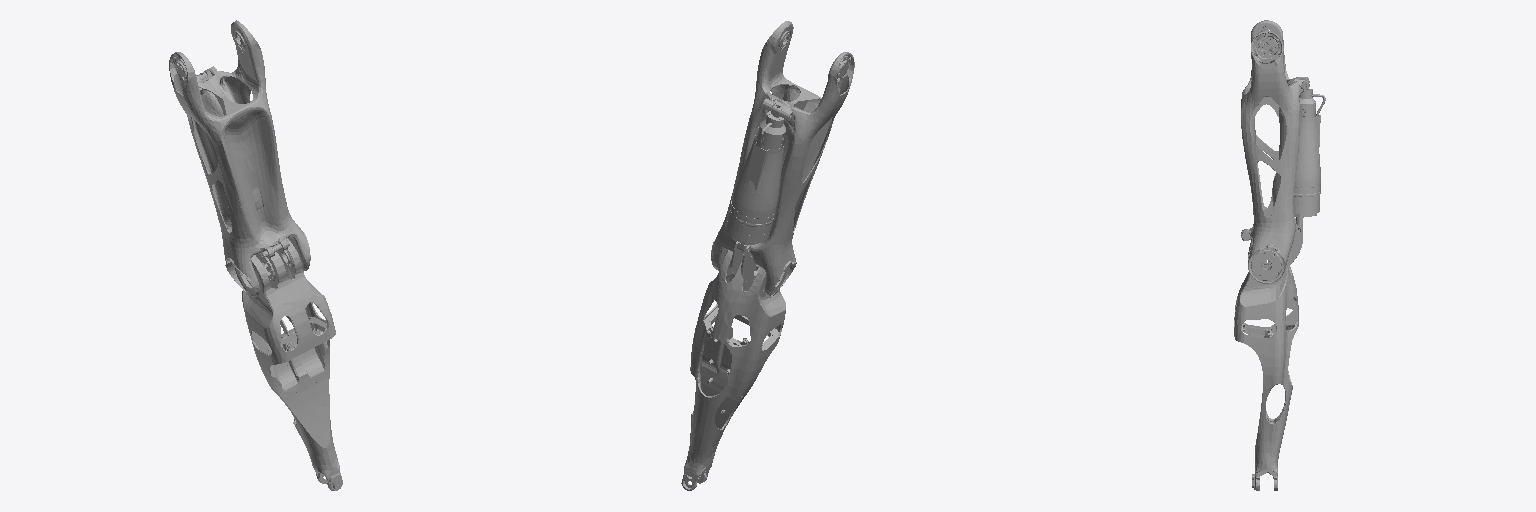
robot.urdf — LRKnee:
<robot name="LRKnee">
  <link name="LRHip3_Link">
    <inertial>
      <origin xyz="0.051263 0.0072511 -0.19232" rpy="0.0 0.0 0.0"/>
      <mass value="1.0487"/>
      <inertia ixx="0.020383" ixy="3.4682e-05" ixz="0.0047264" iyy="0.022629" iyz="-0.00014075" izz="0.0042174"/>
    </inertial>
    <visual name="LRHip3_Link_visual">
      <origin xyz="0.0 0.0 0.0" rpy="0.0 0.0 0.0"/>
      <geometry>
        <mesh filename="../meshes/stl/Hip3_Link.STL"/>
      </geometry>
      <material name="">
        <color rgba="0.69804 0.69804 0.69804 1.0"/>
      </material>
    </visual>
    <collision name="LRHip3_Link_collision">
      <origin xyz="0.0 0.0 0.0" rpy="0.0 0.0 0.0"/>
      <geometry>
        <mesh filename="../meshes/stl/Hip3_Link.STL"/>
      </geometry>
    </collision>
  </link>
  <joint name="LRKnee" type="revolute">
    <origin xyz="0.10788 -0.0005 -0.39684" rpy="3.1416 1.309 -2.9949e-15"/>
    <axis xyz="0.0 0.0 1.0"/>
    <parent link="LRHip3_Link"/>
    <child link="LRKnee_Link"/>
    <limit effort="325.0" lower="-0.026" upper="1.43" velocity="2.321"/>
  </joint>
  <joint name="LRKnee_Act1" type="prismatic">
    <origin xyz="0.27341 0.0 0.0" rpy="0.0 7.7037e-32 -6.9389e-18"/>
    <axis xyz="1.0 0.0 0.0"/>
    <parent link="LRKnee_B11_Link"/>
    <child link="LRKnee_Act1_Link"/>
    <limit effort="1825.0" lower="0.0" upper="0.1175" velocity="0.14"/>
  </joint>
  <link name="LRKnee_Act1_Link">
    <inertial>
      <origin xyz="-0.10645 -2.465e-13 1.5266e-16" rpy="0.0 0.0 0.0"/>
      <mass value="0.16503"/>
      <inertia ixx="3.4113e-06" ixy="-3.8263e-12" ixz="-7.1291e-16" iyy="0.00081967" iyz="1.7661e-15" izz="0.00081963"/>
    </inertial>
    <visual name="LRKnee_Act1_Link_visual">
      <origin xyz="0.0 0.0 0.0" rpy="0.0 0.0 0.0"/>
      <geometry>
        <mesh filename="../meshes/stl/Knee_Act1_Link.STL"/>
      </geometry>
      <material name="">
        <color rgba="0.69804 0.69804 0.69804 1.0"/>
      </material>
    </visual>
    <collision name="LRKnee_Act1_Link_collision">
      <origin xyz="0.0 0.0 0.0" rpy="0.0 0.0 0.0"/>
      <geometry>
        <mesh filename="../meshes/stl/Knee_Act1_Link.STL"/>
      </geometry>
    </collision>
  </link>
  <joint name="LRKnee_B11" type="revolute">
    <origin xyz="0.020175 0.070737 -0.075294" rpy="-0.15081 1.3059 -0.15617"/>
    <axis xyz="0.0 0.0 -1.0"/>
    <parent link="LRHip3_Link"/>
    <child link="LRKnee_B11_Link"/>
    <limit effort="0.0" lower="0" upper="0" velocity="0.0"/>
  </joint>
  <link name="LRKnee_B11_Link">
    <inertial>
      <origin xyz="0.16939 0.00046866 4.4515e-05" rpy="0.0 0.0 0.0"/>
      <mass value="1.224"/>
      <inertia ixx="0.00077764" ixy="5.3789e-05" ixz="-4.184e-07" iyy="0.0059454" iyz="3.0443e-08" izz="0.0059571"/>
    </inertial>
    <visual name="LRKnee_B11_Link_visual">
      <origin xyz="0.0 0.0 0.0" rpy="0.0 0.0 0.0"/>
      <geometry>
        <mesh filename="../meshes/stl/Knee_B11_Link.STL"/>
      </geometry>
      <material name="">
        <color rgba="0.69804 0.69804 0.69804 1.0"/>
      </material>
    </visual>
    <collision name="LRKnee_B11_Link_collision">
      <origin xyz="0.0 0.0 0.0" rpy="0.0 0.0 0.0"/>
      <geometry>
        <mesh filename="../meshes/stl/Knee_B11_Link.STL"/>
      </geometry>
    </collision>
  </link>
  <link name="LRKnee_Link">
    <inertial>
      <origin xyz="0.11911 -0.001888 0.00058411" rpy="0.0 0.0 0.0"/>
      <mass value="0.94401"/>
      <inertia ixx="0.0017333" ixy="-5.494e-05" ixz="-0.00010491" iyy="0.01483" iyz="2.0836e-06" izz="0.014618"/>
    </inertial>
    <visual name="LRKnee_Link_visual">
      <origin xyz="0.0 0.0 0.0" rpy="0.0 0.0 0.0"/>
      <geometry>
        <mesh filename="../meshes/stl/Knee_Link.STL"/>
      </geometry>
      <material name="">
        <color rgba="0.69804 0.69804 0.69804 1.0"/>
      </material>
    </visual>
    <collision name="LRKnee_Link_collision">
      <origin xyz="0.0 0.0 0.0" rpy="0.0 0.0 0.0"/>
      <geometry>
        <mesh filename="../meshes/stl/Knee_Link.STL"/>
      </geometry>
    </collision>
  </link>
</robot>

--- Facts derived from the render (not from the file) ---
3 views of the same robot in one strip: view 1: azimuth 30°, elevation 25°; view 2: azimuth 150°, elevation 25°; view 3: azimuth 270°, elevation 25° (orthographic).
Robot: LRKnee — 4 links, 3 joints (2 revolute, 1 prismatic); root link LRHip3_Link; default pose: all joints at 0.
Visible links, largest first — view 1: LRHip3_Link, LRKnee_Link; view 2: LRKnee_Link, LRHip3_Link, LRKnee_B11_Link; view 3: LRHip3_Link, LRKnee_Link, LRKnee_B11_Link.
Boxes of the visible links, x1,y1,x2,y2 form: LRHip3_Link: (169,20,310,296); LRKnee_Link: (242,238,342,490); LRKnee_Link: (681,241,785,490); LRHip3_Link: (711,21,854,297); LRKnee_B11_Link: (725,104,785,244); LRHip3_Link: (1241,20,1309,283); LRKnee_Link: (1234,225,1302,490); LRKnee_B11_Link: (1293,79,1325,216).
Bounding box of the posed robot: 0.2929 × 0.1689 × 0.8599 m (x, y, z).
4 mesh visuals loaded from 4 distinct referenced files (4 binary STL).